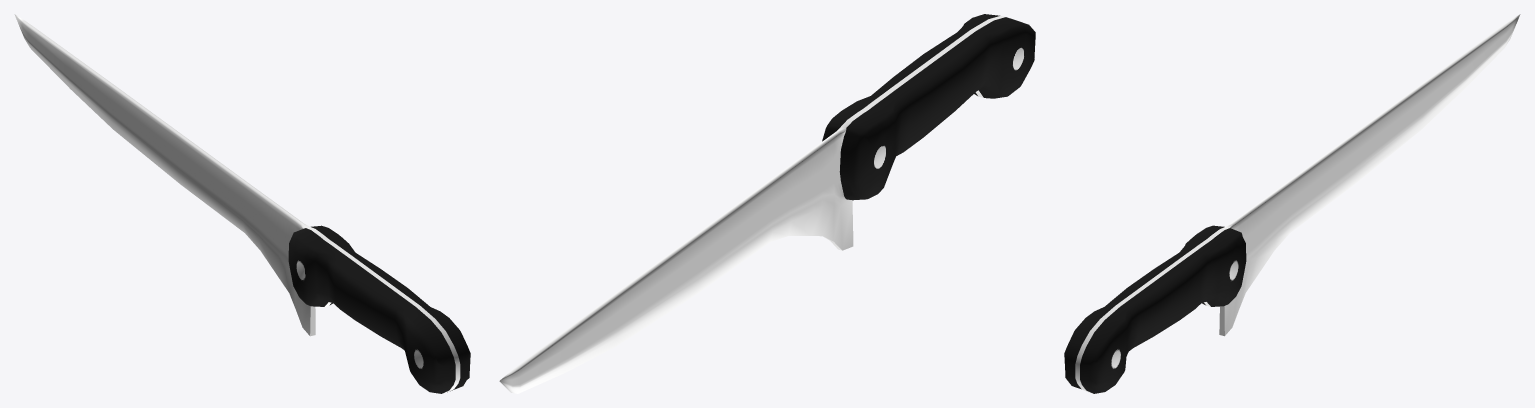
File: Cook_Knife.obj
The picture shows the model from 3 angles, left to right: view 1: azimuth 30°, elevation 25°; view 2: azimuth 150°, elevation 25°; view 3: azimuth 330°, elevation 25°; orthographic projection. The views are drawn at different scales.
Parts seen in each view (by area): view 1: Cook_Knife2; view 2: Cook_Knife2; view 3: Cook_Knife2.
Part boxes in pixels (bbox=[...]): Cook_Knife2: bbox=[14, 14, 470, 393]; Cook_Knife2: bbox=[499, 14, 1035, 393]; Cook_Knife2: bbox=[1064, 14, 1520, 393].
Size of the model in its own units: 0.7571 by 1.95 by 14.78.
